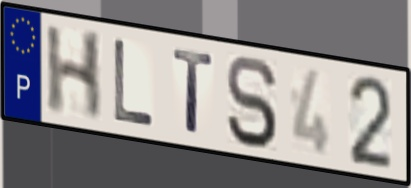2: (346, 73, 394, 172)
4: (288, 67, 335, 159)
H: (43, 23, 105, 123)
L: (111, 35, 157, 130)
S: (224, 53, 280, 152)
T: (170, 45, 216, 138)
